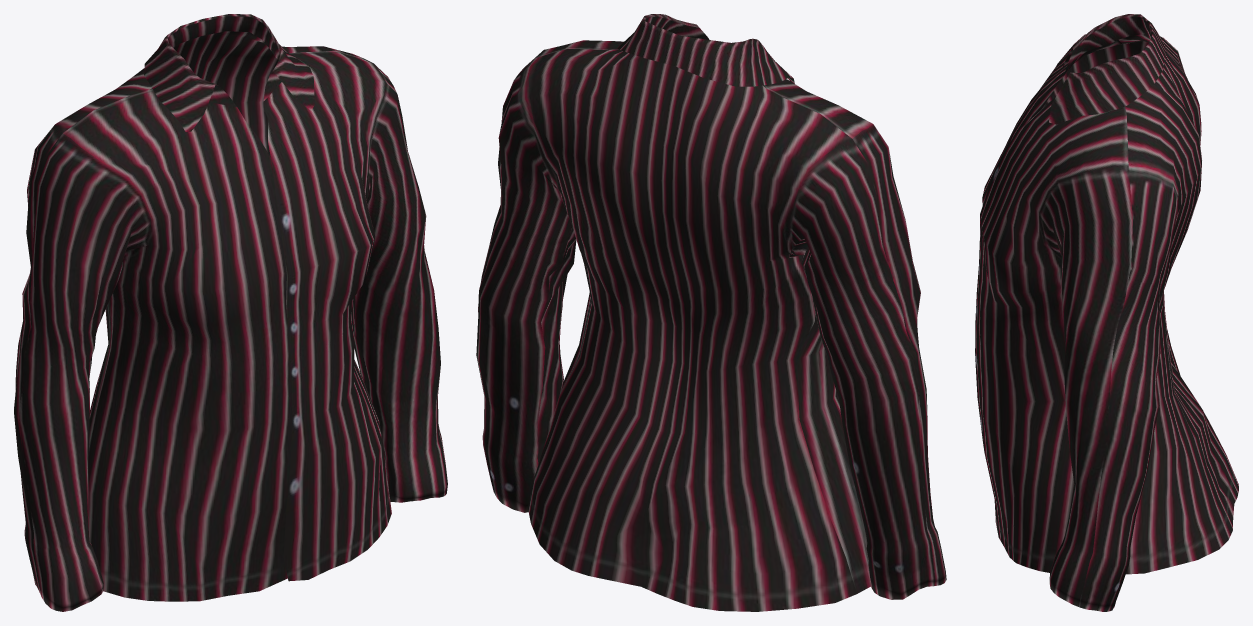
File: top_striped_shirt.gltf
3 views of the same model, side by side, from view 1: azimuth 30°, elevation 25°; view 2: azimuth 150°, elevation 25°; view 3: azimuth 270°, elevation 25° (orthographic). The views are drawn at different scales.
Visible parts, largest first — view 1: top_striped_shirt; view 2: top_striped_shirt; view 3: top_striped_shirt.
Part boxes in pixels (left/top/right/bottom): top_striped_shirt: left=14, top=14, right=447, bottom=611; top_striped_shirt: left=476, top=14, right=946, bottom=611; top_striped_shirt: left=975, top=14, right=1238, bottom=611.
Size of the model in its own units: 0.5073 by 0.598 by 0.2892.
Materials: 1 (1 with a texture image).
